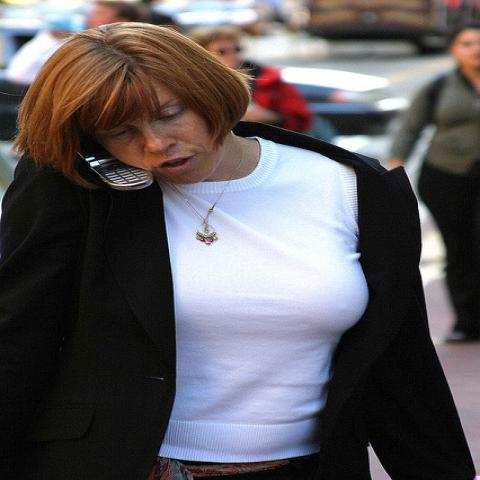car: (0, 33, 404, 146)
